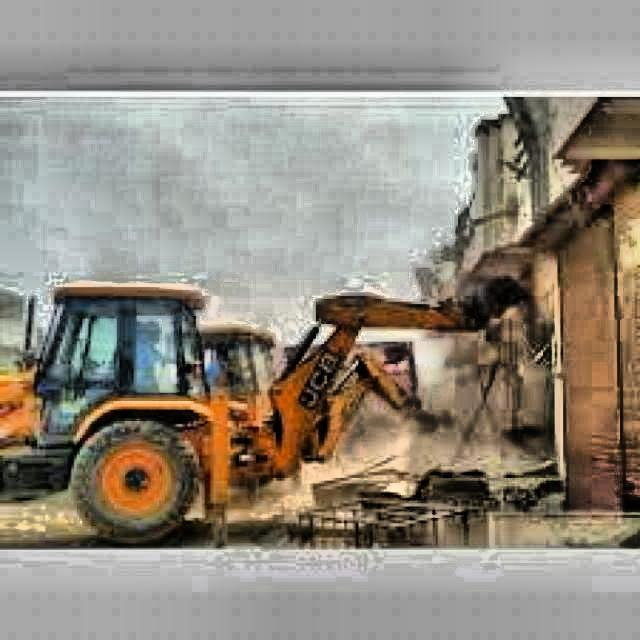bull_dozer/loader/grader: (1, 278, 536, 549), (165, 327, 432, 464)
person: (136, 320, 178, 392), (206, 350, 226, 383)
